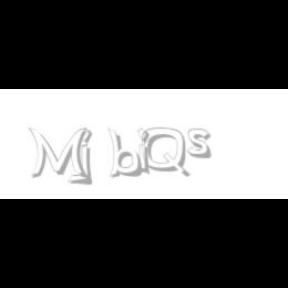M: (29, 128, 88, 180)
Q: (142, 128, 188, 178)
b: (107, 128, 145, 178)
i: (137, 128, 153, 176)
j: (78, 128, 106, 186)
s: (188, 128, 216, 160)
